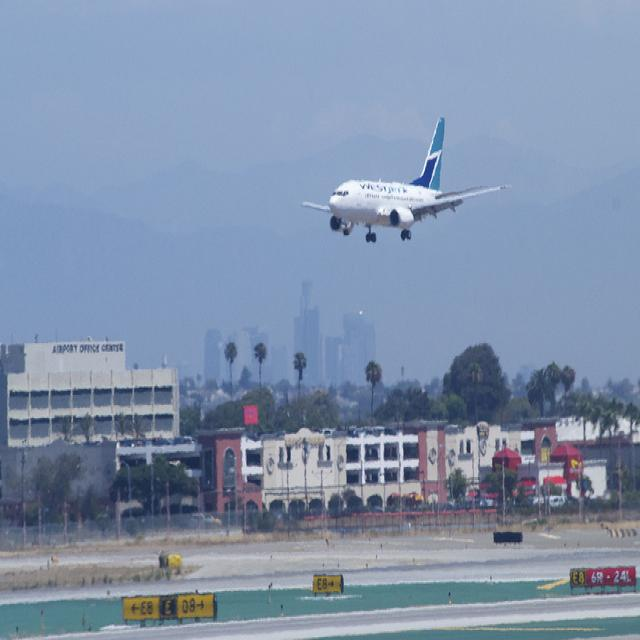airplane: (301, 113, 512, 246)
